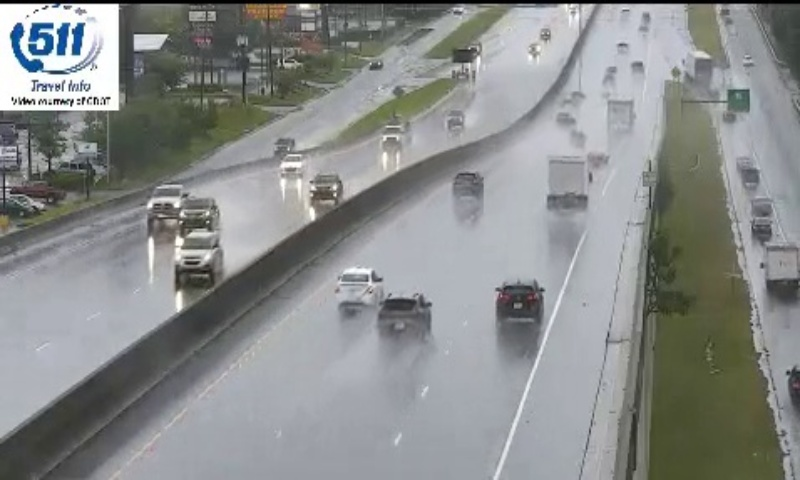car: (378, 295, 431, 335), (497, 278, 543, 321), (336, 268, 383, 308), (451, 171, 485, 200)
small-truck: (545, 156, 589, 213)
